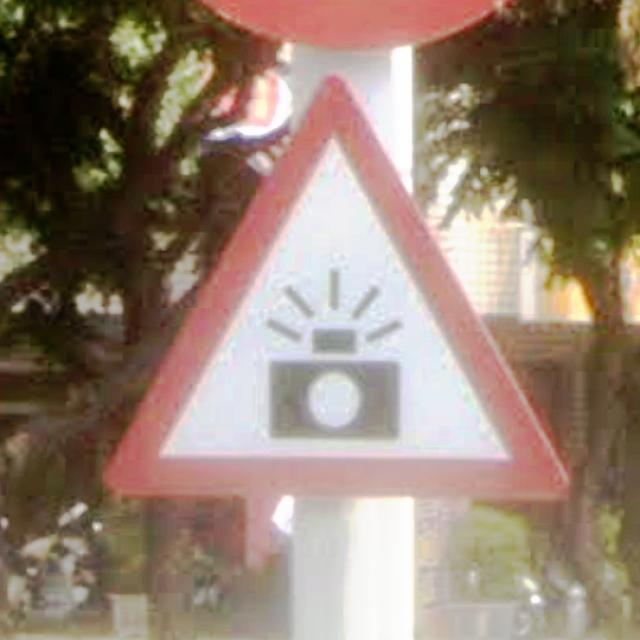speedcamera: (108, 72, 570, 502)
